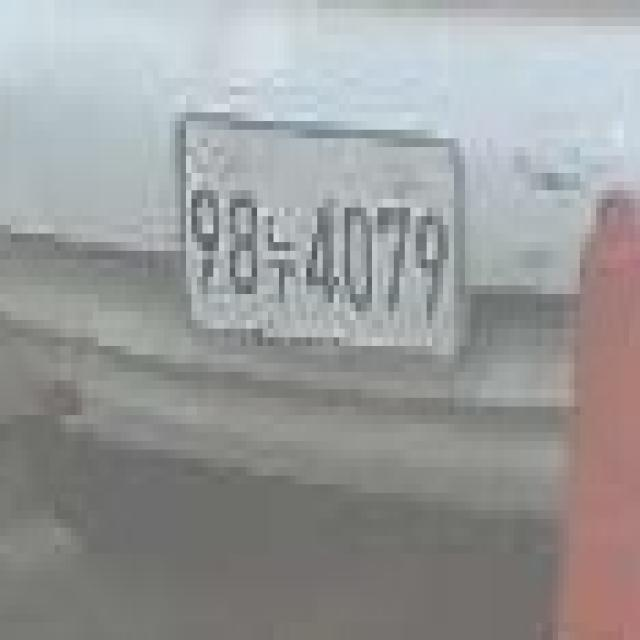0: (344, 201, 377, 321)
4: (303, 196, 341, 316)
7: (380, 196, 410, 322)
8: (228, 184, 264, 306)
9: (413, 202, 452, 336), (187, 180, 226, 302)
license_plate: (176, 111, 471, 369)
nu: (266, 211, 302, 311)
